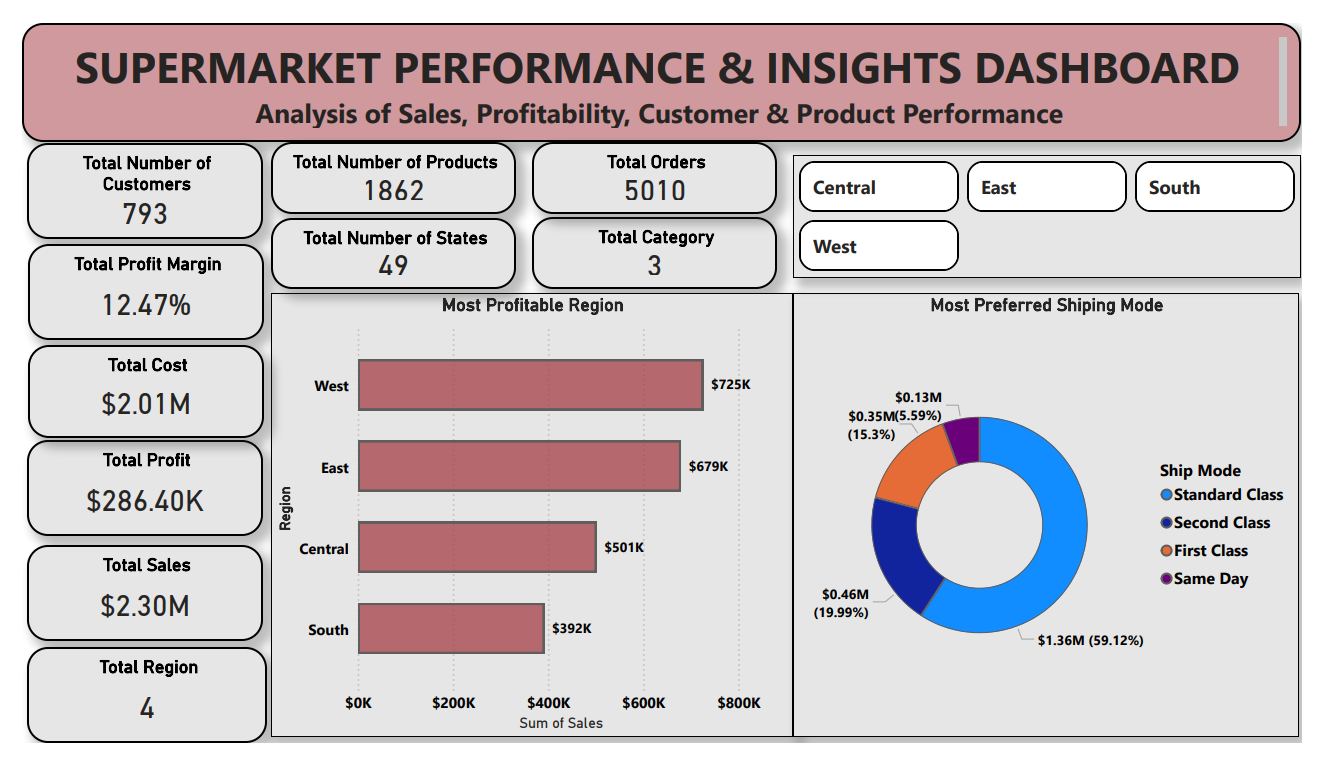

This screenshot's page, from the dashboard's own definition file:
{"tool":"powerbi","page":{"name":"Page 4","canvas":[1280,720],"ordinal":3},"visuals":[{"type":"textbox","box":[0,0,1279.4,119.1],"z":0},{"type":"clusteredBarChart","title":"Most Profitable Region","fields":{"Category":["Sample - Superstore excel cleaned.Region"],"Y":["Sum(Sample - Superstore excel cleaned.Sales)"]},"box":[250,270,520,443.3],"z":1000},{"type":"donutChart","title":"Most Preferred Shiping Mode","fields":{"Category":["Sample - Superstore excel cleaned.Ship Mode"],"Y":["Sum(Sample - Superstore excel cleaned.Sales)"]},"box":[771,270.2,506.5,444.1],"z":2000},{"type":"advancedSlicerVisual","fields":{"Values":["Sample - Superstore excel cleaned.Region"]},"box":[771,132.3,508.4,122.8],"z":3000},{"type":"card","title":"Total Sales","fields":{"Values":["Sum(Sample - Superstore excel cleaned.Sales)"]},"box":[7.6,521.6,236.2,96.4],"z":4000},{"type":"card","title":"Total Region","fields":{"Values":["Count(Sample - Superstore excel cleaned.Region)"]},"box":[7,623.6,240,96.4],"z":5000},{"type":"card","title":"Total profit","fields":{"Values":["Sum(Sample - Superstore excel cleaned.Profit)"]},"box":[7.6,422,236.2,96.4],"z":6000},{"type":"card","title":"Total Cost","fields":{"Values":["Sample - Superstore excel cleaned.Total Cost"]},"box":[5.7,317.5,236.2,92.6],"z":7000},{"type":"card","title":"Total Profit Margin","fields":{"Values":["Sample - Superstore excel cleaned.Profit Margin"]},"box":[5.7,221.1,236.2,96.4],"z":8000},{"type":"card","title":"Total Number of Customers","fields":{"Values":["Count(Sample - Superstore excel cleaned.Customer ID)"]},"box":[7,120,236.2,96.4],"z":9000},{"type":"card","title":"Total Number of Products","fields":{"Values":["Count(Sample - Superstore excel cleaned.Product ID)"]},"box":[249.5,119.1,245,72],"z":10000},{"type":"card","title":"Total Number of States","fields":{"Values":["Count(Sample - Superstore excel cleaned.State)"]},"box":[249.5,194.6,245,71.8],"z":11000},{"type":"card","title":"Total Order ID","fields":{"Values":["Count(Sample - Superstore excel cleaned.Order ID)"]},"box":[510.2,119.1,245,71.8],"z":12000},{"type":"card","title":"Total Category","fields":{"Values":["Count(Sample - Superstore excel cleaned.Category)"]},"box":[510.2,194,245,71.8],"z":13000}]}

Visuals, with their boxes in screenshot pixels (x1, y1, x2, y2), scaled from the page's 1280x720 canvas onto the 1324x765 screenshot:
textbox: (0, 0, 1323, 127)
"Most Profitable Region" clusteredBarChart: (259, 287, 796, 758)
"Most Preferred Shiping Mode" donutChart: (798, 287, 1321, 759)
advancedSlicerVisual - Sample - Superstore excel cleaned.Region: (798, 141, 1323, 271)
"Total Sales" card: (8, 554, 252, 657)
"Total Region" card: (7, 663, 255, 764)
"Total profit" card: (8, 448, 252, 551)
"Total Cost" card: (6, 337, 250, 436)
"Total Profit Margin" card: (6, 235, 250, 337)
"Total Number of Customers" card: (7, 128, 252, 230)
"Total Number of Products" card: (258, 127, 511, 203)
"Total Number of States" card: (258, 207, 511, 283)
"Total Order ID" card: (528, 127, 781, 203)
"Total Category" card: (528, 206, 781, 282)
